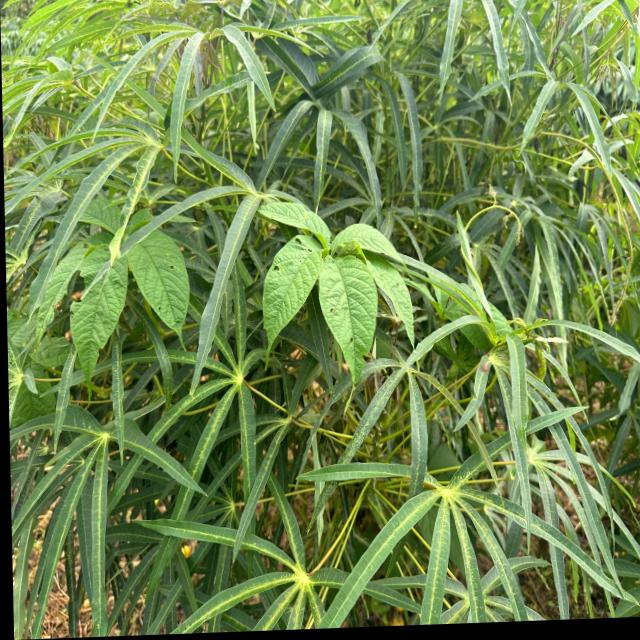Maleza: (248, 185, 415, 364), (49, 203, 194, 358)
Mosca: (479, 356, 493, 374)
